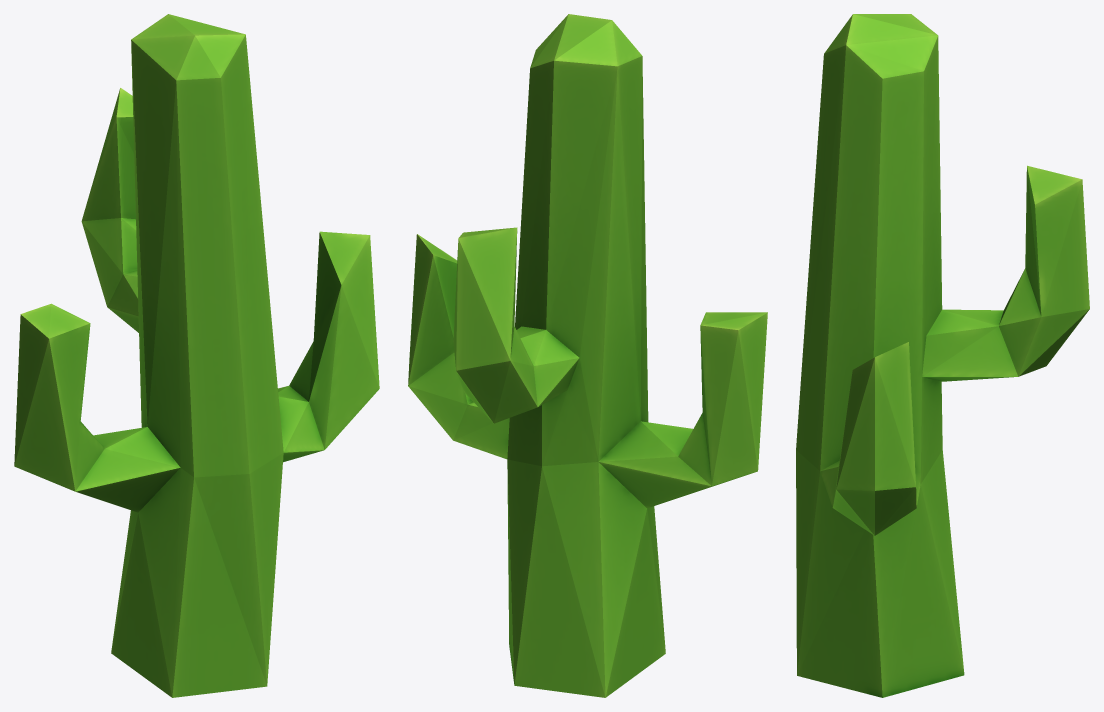
The model's file is Cactus_16.fbx.
3 views of the same model, side by side, from view 1: azimuth 30°, elevation 25°; view 2: azimuth 150°, elevation 25°; view 3: azimuth 270°, elevation 25° (orthographic).
Visible parts, largest first — view 1: Cactus_16; view 2: Cactus_16; view 3: Cactus_16.
Part boxes in pixels (x1,y1,x2,y2): Cactus_16: [14, 14, 379, 697]; Cactus_16: [408, 14, 767, 697]; Cactus_16: [796, 14, 1089, 697].
Bounding box in the file's own units: 35.54 × 60.91 × 25.34.
